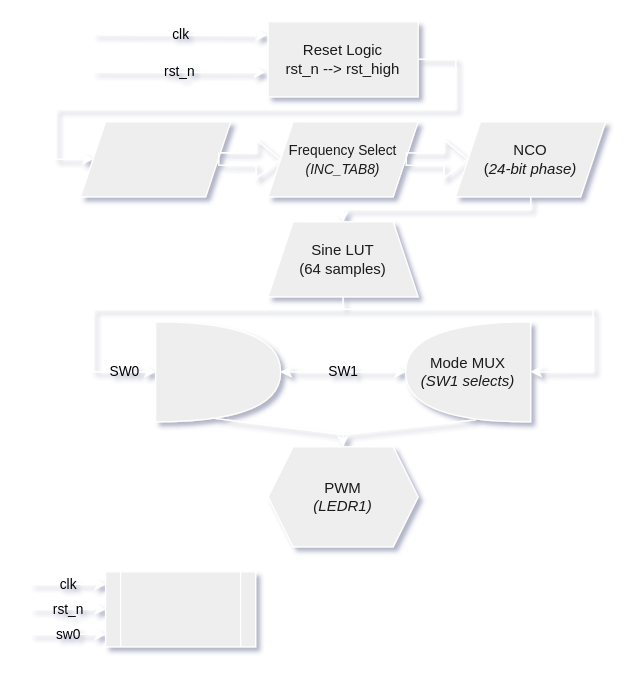
This 635x676 diagram has some shape labels left out. Here are the shapes that lost their labels. From the top down, the centre of each, then its label:
At point 155,159: "Switches SW3 SW2 SW0".
At point 217,371: "Plain Duty Gen 25% / 75%".
At point 180,609: "funcgen_micro (LEDR0 PWM) pwm_out--> LEDR0".
